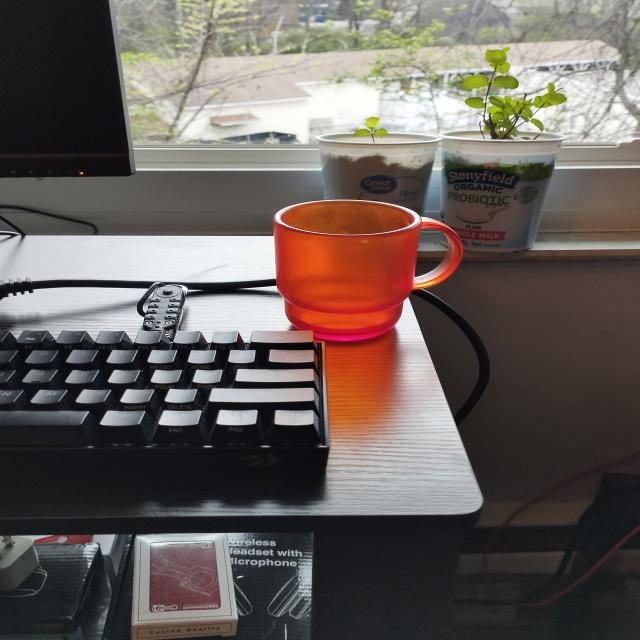Cup: (254, 182, 508, 345)
